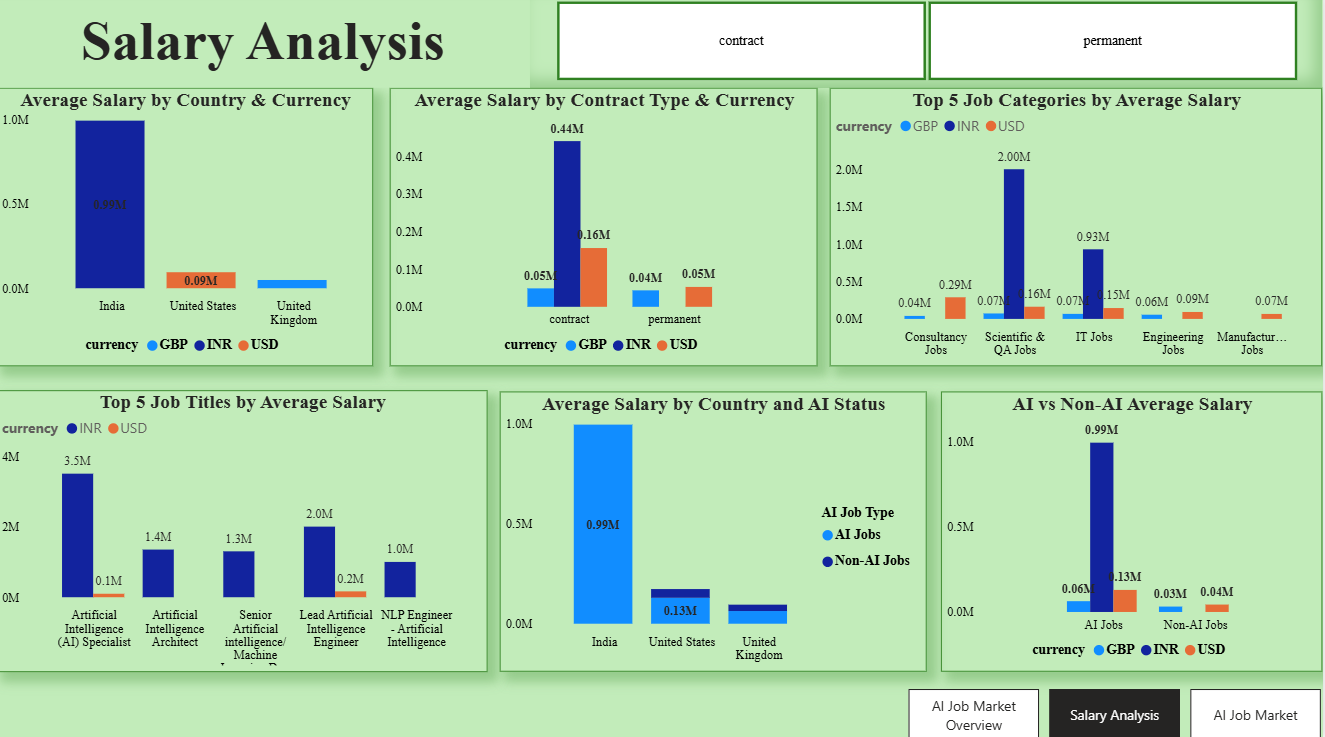

The dashboard page shown, as its layout file describes it:
{"tool":"powerbi","page":{"name":"Salary Analysis","canvas":[1280,720],"ordinal":1},"visuals":[{"type":"clusteredColumnChart","title":"Average Salary by Contract Type & Currency","fields":{"Category":["AI_Job_Market_Cleaned.contract_type"],"Y":["AI_Job_Market_Cleaned.Average Salary"],"Series":["AI_Job_Market_Cleaned.currency"]},"box":[380.1,90.6,413,269],"z":0},{"type":"clusteredColumnChart","title":"Top 5 Job Categories by Average Salary","fields":{"Category":["AI_Job_Market_Cleaned.category"],"Y":["AI_Job_Market_Cleaned.Average Salary"],"Series":["AI_Job_Market_Cleaned.currency"]},"box":[804.7,90.5,475.3,269],"z":1000},{"type":"clusteredColumnChart","title":"Top 5 Job Titles by Average Salary","fields":{"Category":["AI_Job_Market_Cleaned.job_title"],"Y":["AI_Job_Market_Cleaned.Average Salary"],"Series":["AI_Job_Market_Cleaned.currency"]},"box":[0,382.8,474.8,271.7],"z":2000},{"type":"clusteredColumnChart","title":"AI vs Non-AI Average Salary","fields":{"Category":["AI_Job_Market_Cleaned.AI Job Type"],"Y":["AI_Job_Market_Cleaned.Average Salary"],"Series":["AI_Job_Market_Cleaned.currency"]},"box":[912.5,384.2,367.8,270.3],"z":3000},{"type":"columnChart","title":"Average Salary by Country and AI Status","fields":{"Category":["AI_Job_Market_Cleaned.country_name"],"Y":["AI_Job_Market_Cleaned.Average Salary"],"Series":["AI_Job_Market_Cleaned.AI Job Type"]},"box":[485.8,384.2,411.7,270.3],"z":4000},{"type":"columnChart","title":"Average Salary by Country & Currency","fields":{"Category":["AI_Job_Market_Cleaned.country_name"],"Y":["AI_Job_Market_Cleaned.Average Salary"],"Series":["AI_Job_Market_Cleaned.currency"]},"box":[0,90.5,364.3,269],"z":5000},{"type":"pageNavigator","box":[881,671,399.3,49.4],"z":6000},{"type":"textbox","box":[0,9.7,515.2,80.8],"z":10000},{"type":"slicer","fields":{"Values":["AI_Job_Market_Cleaned.contract_type"]},"box":[515.2,0,764.9,90.5],"z":11000}]}

Visuals, with their boxes on the page's 1280x720 design canvas (x1, y1, x2, y2). These are canvas units, not pixel positions in the 1325x737 screenshot, which may show the page scaled, cropped or inside an application window:
"Average Salary by Contract Type & Currency" clusteredColumnChart: detection(380, 91, 793, 360)
"Top 5 Job Categories by Average Salary" clusteredColumnChart: detection(805, 90, 1280, 360)
"Top 5 Job Titles by Average Salary" clusteredColumnChart: detection(0, 383, 475, 654)
"AI vs Non-AI Average Salary" clusteredColumnChart: detection(912, 384, 1280, 654)
"Average Salary by Country and AI Status" columnChart: detection(486, 384, 898, 654)
"Average Salary by Country & Currency" columnChart: detection(0, 90, 364, 360)
pageNavigator: detection(881, 671, 1280, 720)
textbox: detection(0, 10, 515, 90)
slicer - AI_Job_Market_Cleaned.contract_type: detection(515, 0, 1280, 90)
